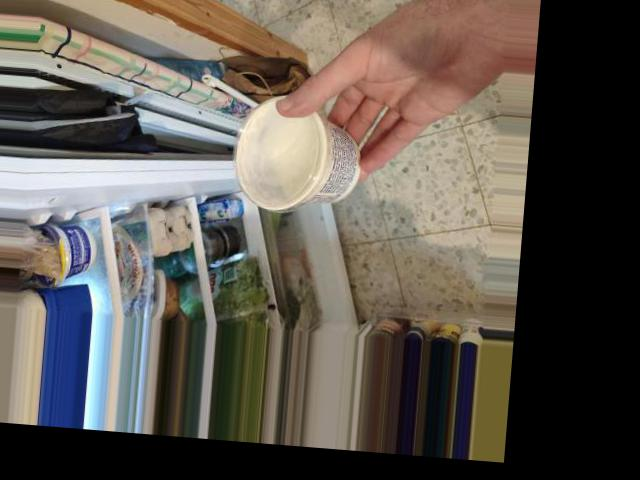cotage: (236, 106, 363, 214)
